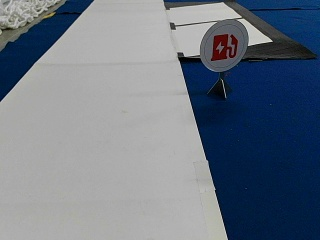battery: (200, 19, 248, 71)
